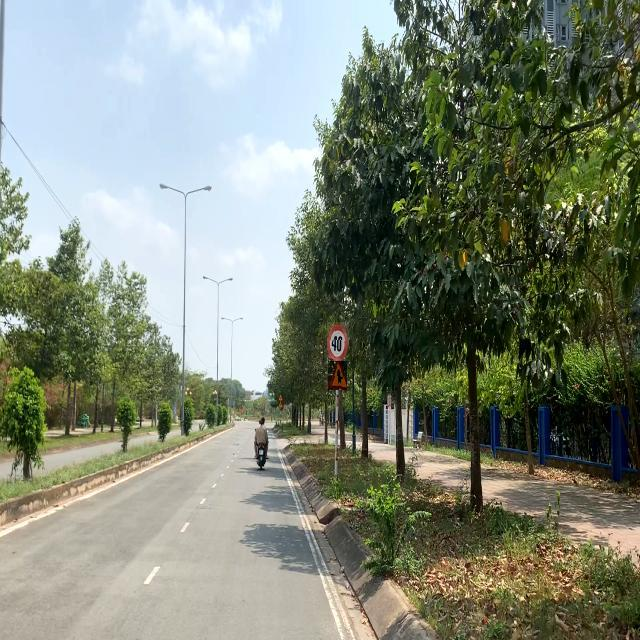P-127: (327, 322, 349, 361)
W-207b: (328, 360, 347, 390)
